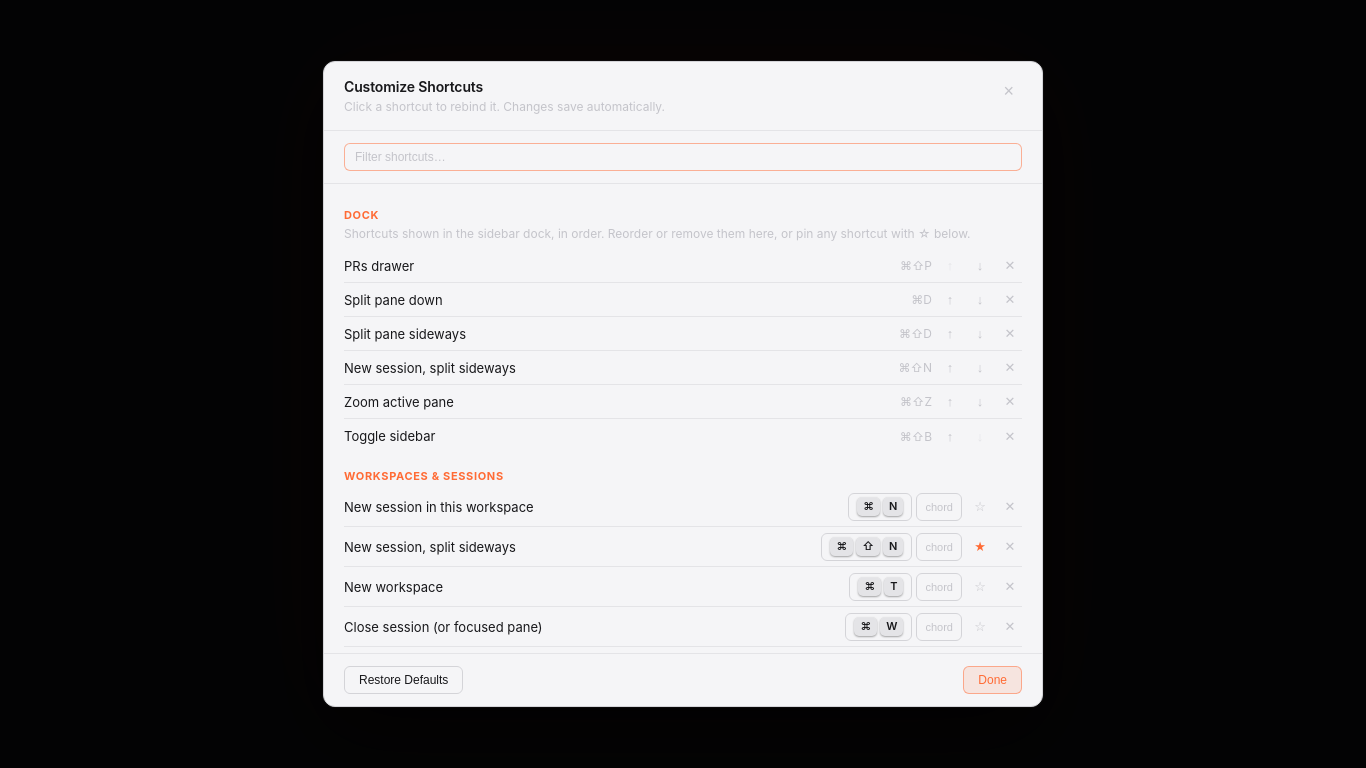
Test: ShortcutEditorModal › clears a stranded reassign prompt when the user starts filtering
The image size is (1366, 768).
Click the button with class "key-capture-button" showing "⌘ N". click: (880, 507)
box: [848,493,912,521]
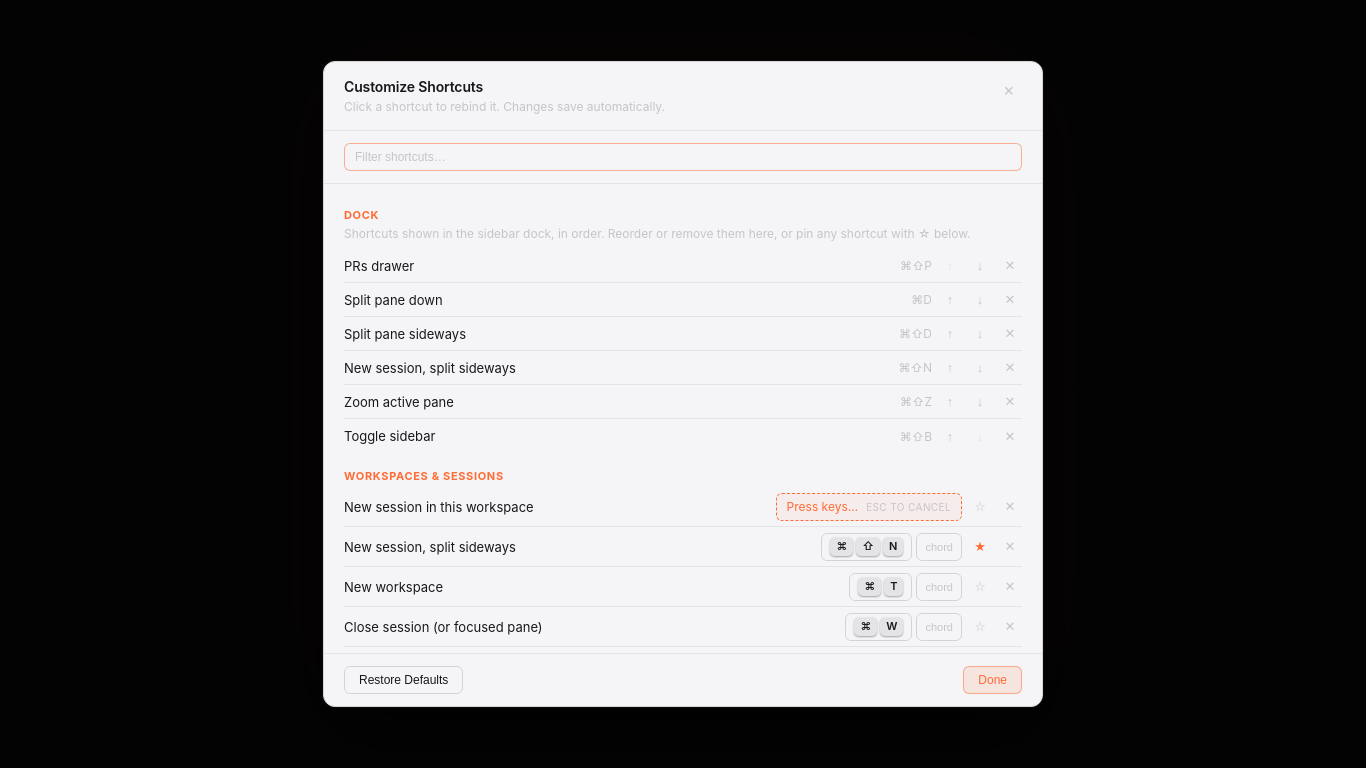
Press d
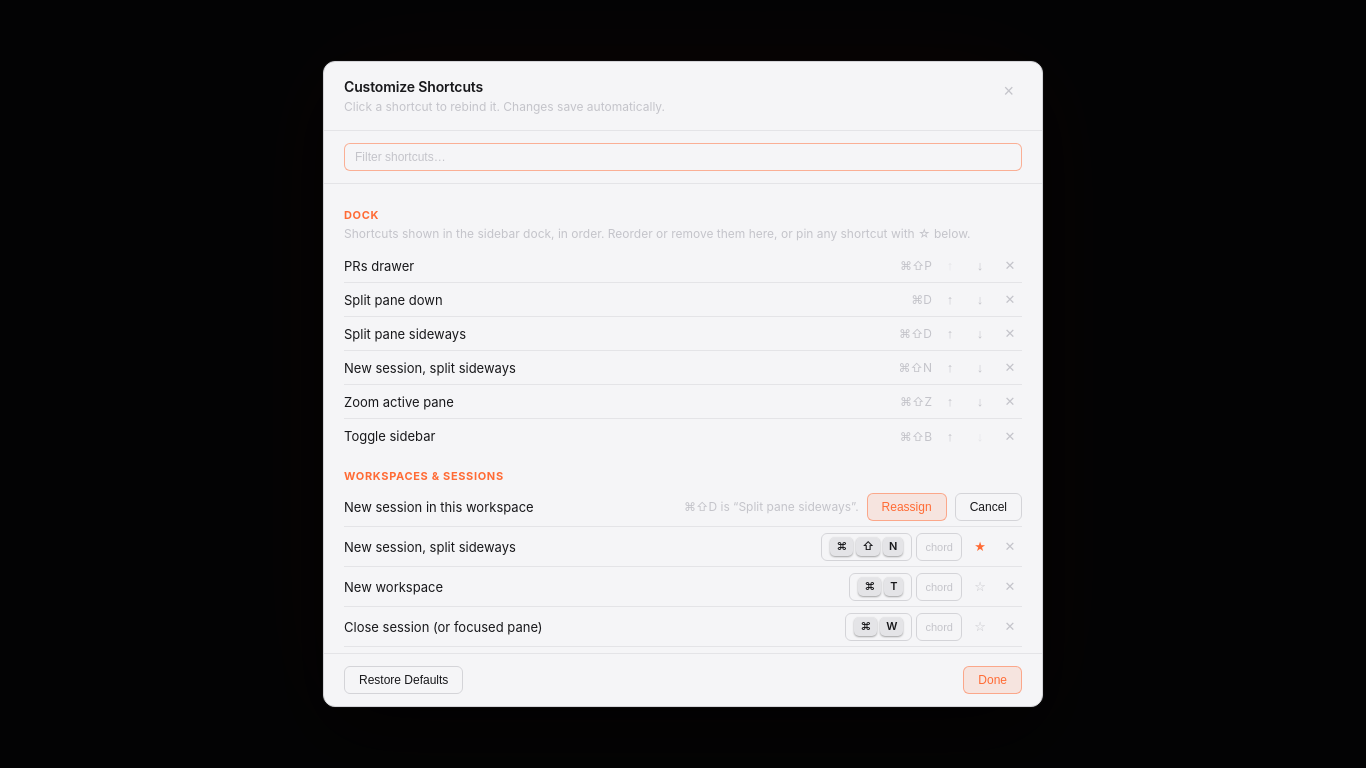
Check: the button "Reassign" is shown, box [867,493,947,521]
# Typing in the filter must not leave the prompt stranded on a hidden row.
Type "new session" into the search field labelled "Filter shortcuts". click: (683, 157)
box: [344,143,1022,171]
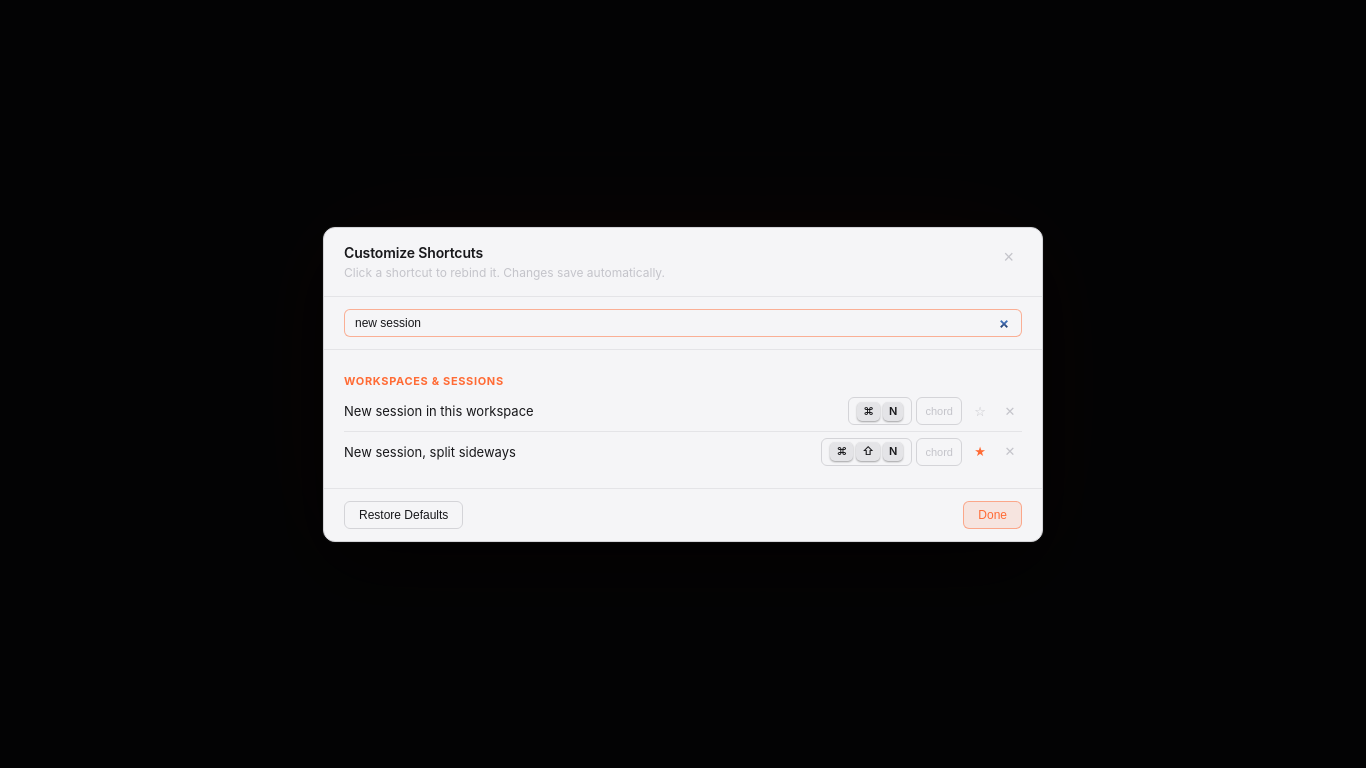
Check: the button "Reassign" is gone
